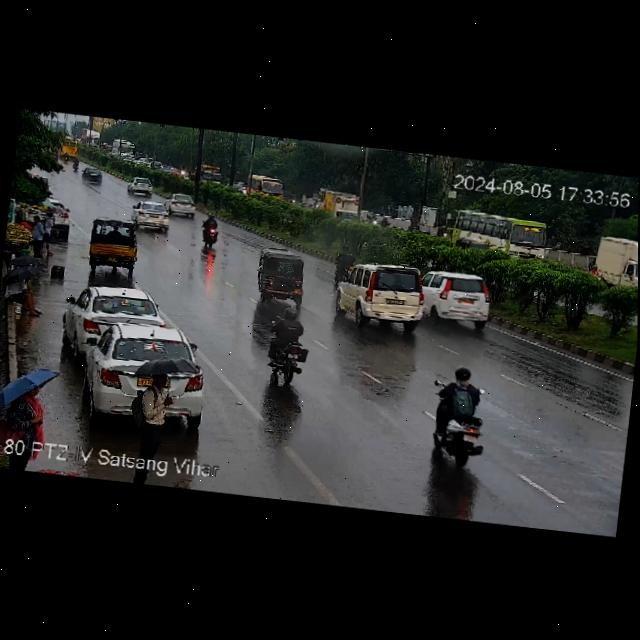bus: (450, 209, 550, 263), (246, 174, 288, 200)
car: (72, 319, 217, 432), (64, 283, 163, 356), (333, 259, 429, 334), (422, 271, 498, 331), (253, 250, 310, 304), (89, 219, 143, 272), (131, 200, 174, 230), (163, 192, 203, 219), (126, 175, 158, 197), (78, 164, 103, 182)
motorcycle: (258, 309, 313, 387), (195, 214, 229, 248)
person: (433, 363, 485, 449), (131, 368, 179, 453), (3, 275, 44, 316), (26, 216, 54, 262)
truck: (589, 235, 638, 291), (316, 189, 360, 219)
